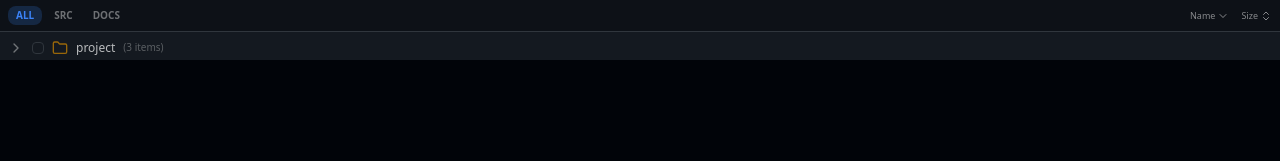
Test: FileTree Hierarchy › Hierarchical ordering › should display nodes grouped by folders
Expected: the text "project" is shown, [76,38,115,56]
Note: Expand project folder
Click the button with test id "expand-icon".
click(16, 48)  # box [6,38,26,58]
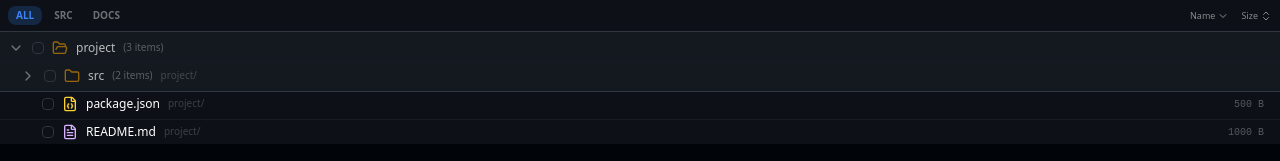
Now the text "src" is shown, box [88,66,104,84]
Now the text "package.json" is shown, box [86,94,160,112]
Now the text "README.md" is shown, box [86,122,156,140]
